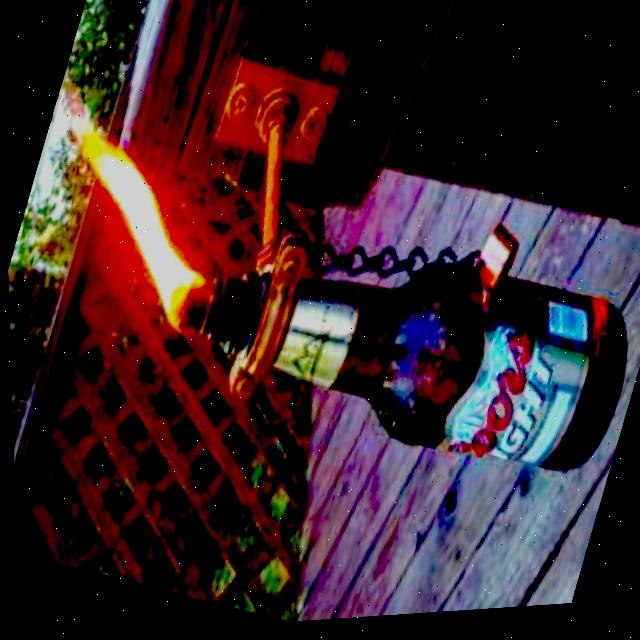Fire: (4, 87, 253, 358)
